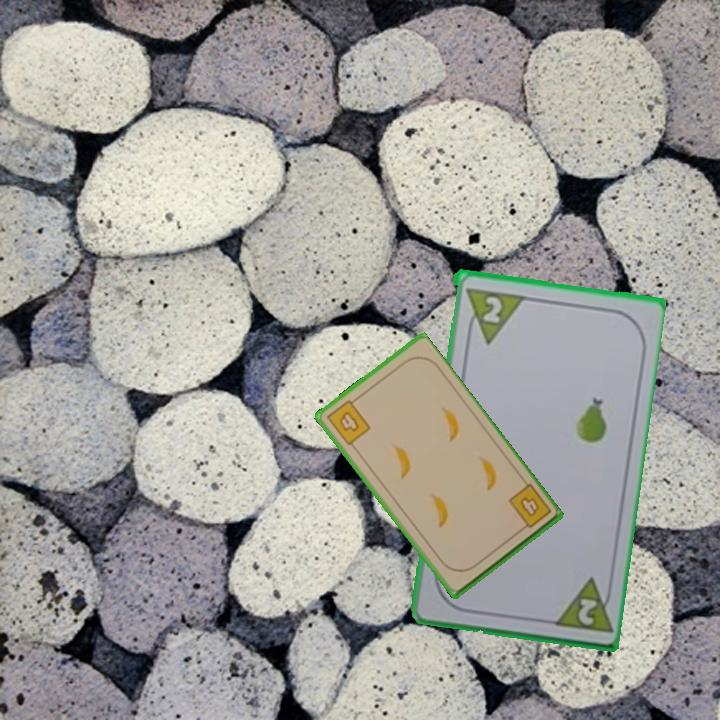2p: (546, 573, 615, 635), (461, 283, 524, 346)
4b: (323, 394, 374, 448), (504, 480, 554, 535)
